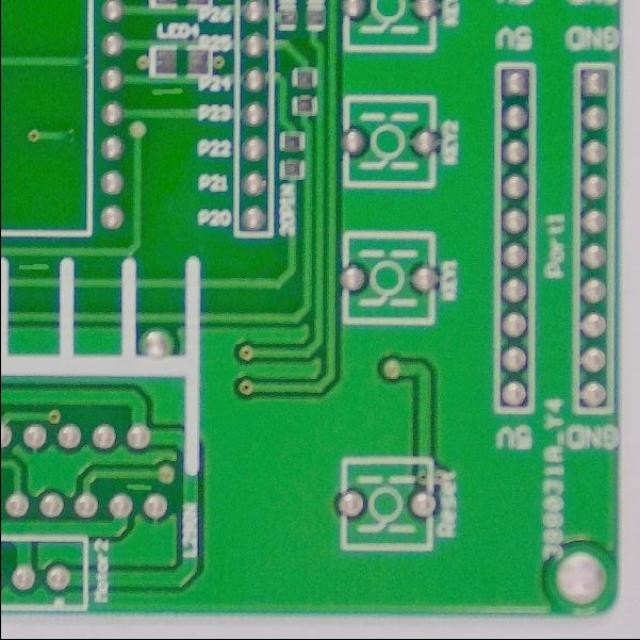spurious_copper: (119, 475, 162, 503), (11, 257, 54, 280), (146, 82, 185, 106)
